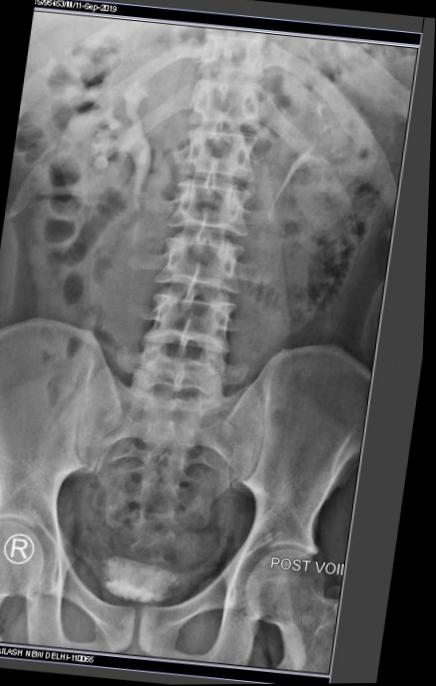bladder: (87, 543, 234, 635)
left kidney: (304, 64, 433, 249)
right kidney: (57, 48, 192, 222)
vertebrae: (197, 111, 297, 178)
